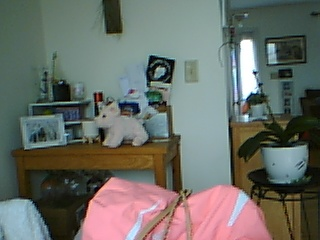piggy: (94, 100, 150, 148)
